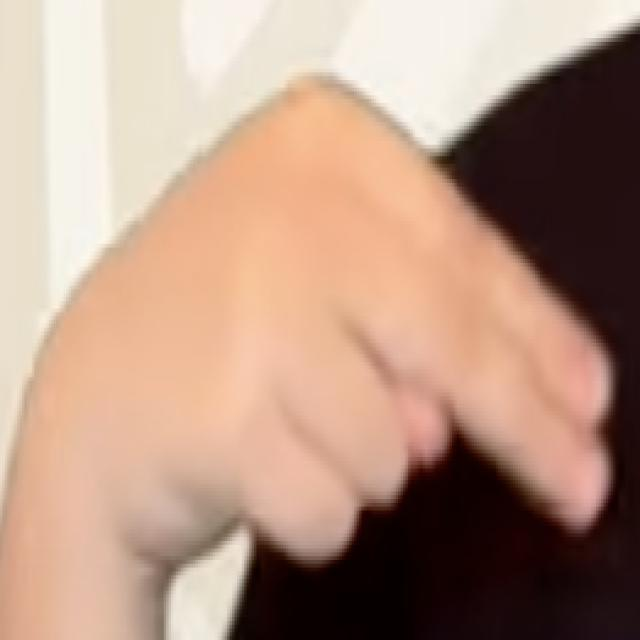N: (10, 59, 618, 568)
